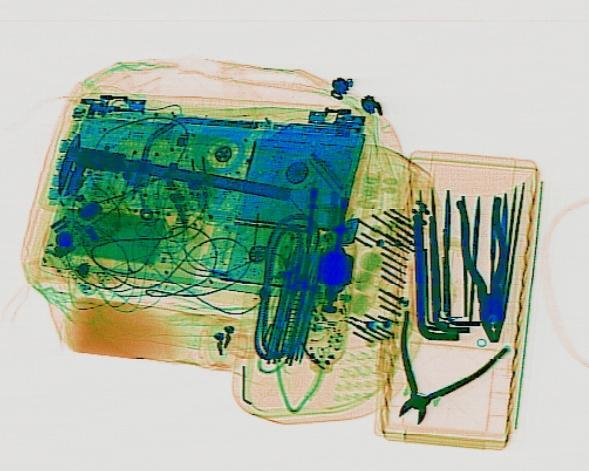Pliers: (355, 309, 514, 436), (454, 195, 520, 343)
